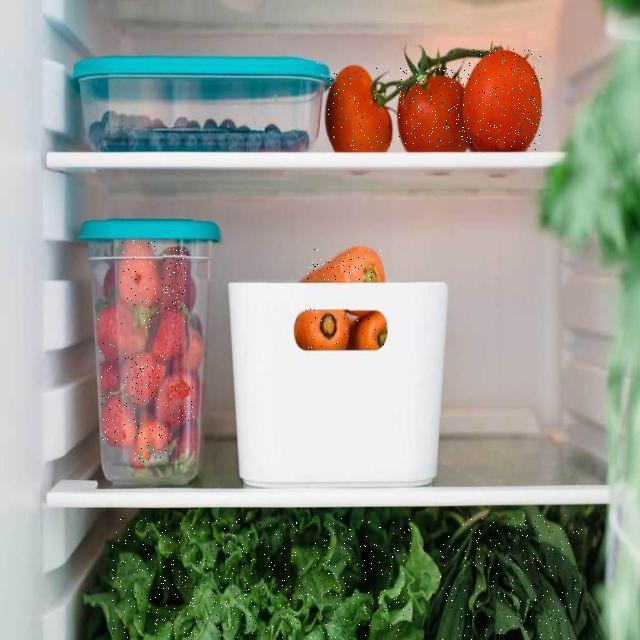blueberries: (87, 119, 306, 151)
carrot: (307, 248, 383, 280), (305, 310, 349, 350), (351, 316, 388, 349)
lettuce: (112, 518, 412, 638), (438, 515, 583, 640)
strawberries: (120, 239, 162, 322), (97, 306, 150, 358), (125, 355, 165, 405), (133, 417, 172, 462), (156, 378, 194, 423), (102, 394, 136, 444), (162, 248, 186, 312), (154, 315, 188, 360), (100, 357, 120, 393)
tomato: (466, 48, 542, 150), (399, 67, 465, 147), (328, 68, 391, 150)
